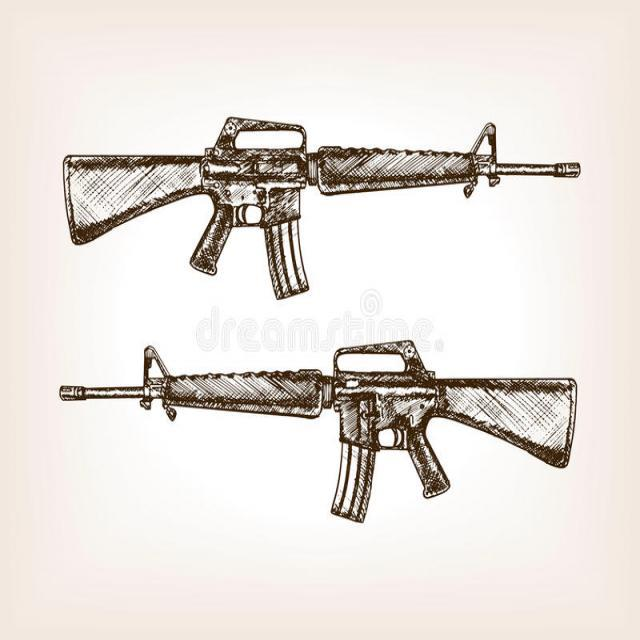rifle: (52, 99, 601, 317), (59, 329, 589, 528)
